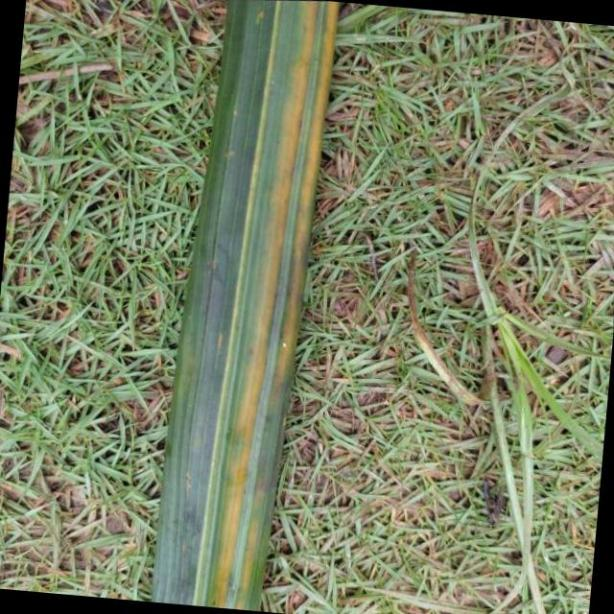Megnesium: (149, 0, 342, 585)
